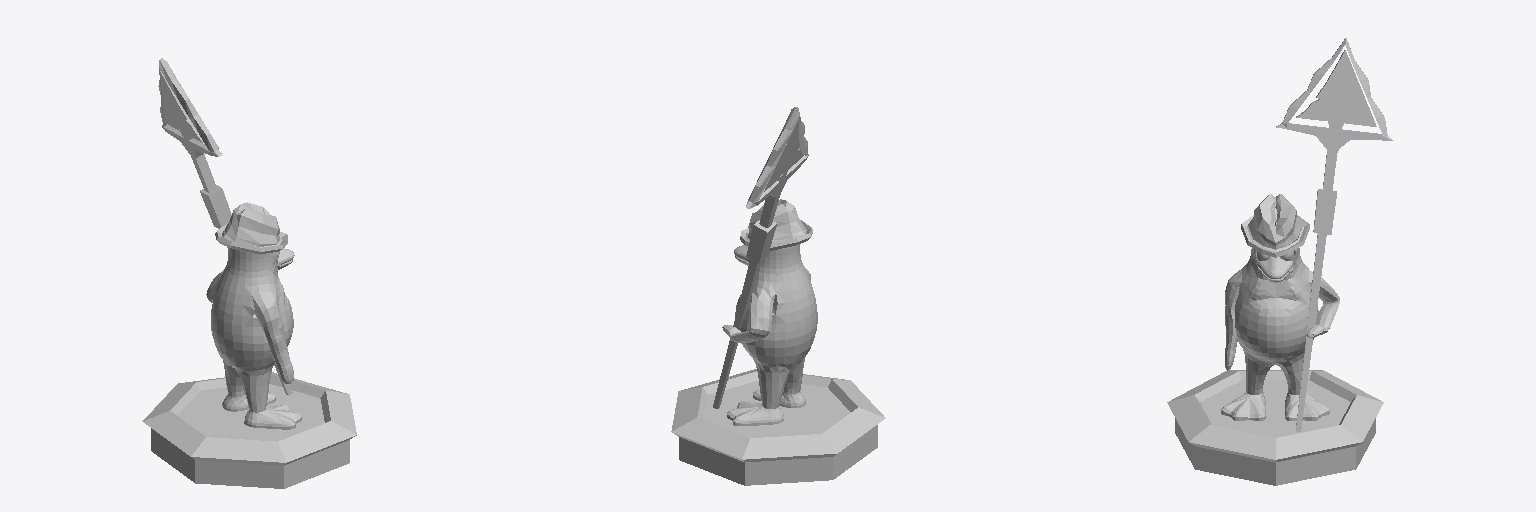
Rendered from Tux Bishop.obj.
3 renders of one model, left to right at view 1: azimuth 30°, elevation 25°; view 2: azimuth 150°, elevation 25°; view 3: azimuth 270°, elevation 25°, orthographic.
Parts seen in each view (by area): view 1: [MESH]_Base_Circle.001; view 2: [MESH]_Base_Circle.001; view 3: [MESH]_Base_Circle.001.
Part boxes in pixels (x1,y1,x2,y2): [MESH]_Base_Circle.001: (142,58,356,488); [MESH]_Base_Circle.001: (671,107,885,485); [MESH]_Base_Circle.001: (1167,38,1392,485).
Bounding box in the file's own units: 1.25 × 2.46 × 1.34.